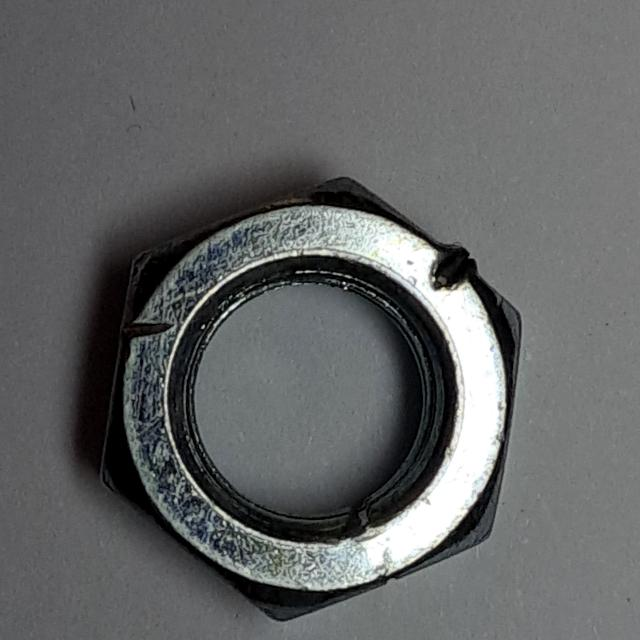Scratches: (94, 162, 536, 638)
